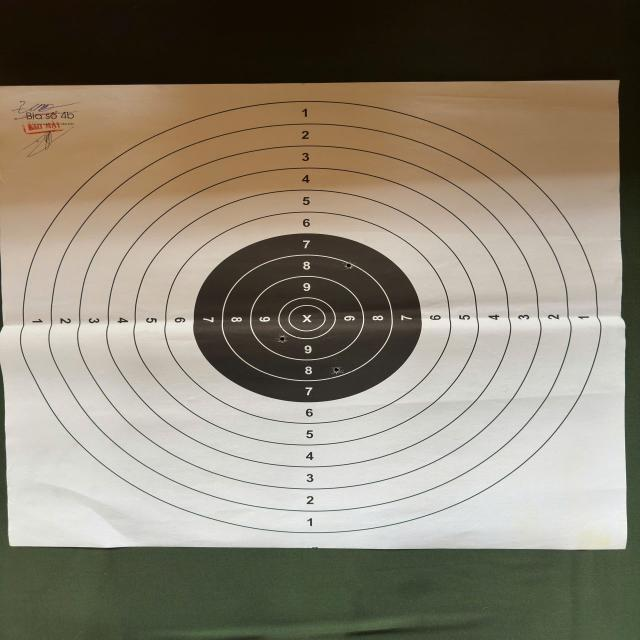bullet: (280, 336, 288, 344), (333, 368, 340, 376), (345, 260, 352, 268)
target: (0, 80, 616, 552)
